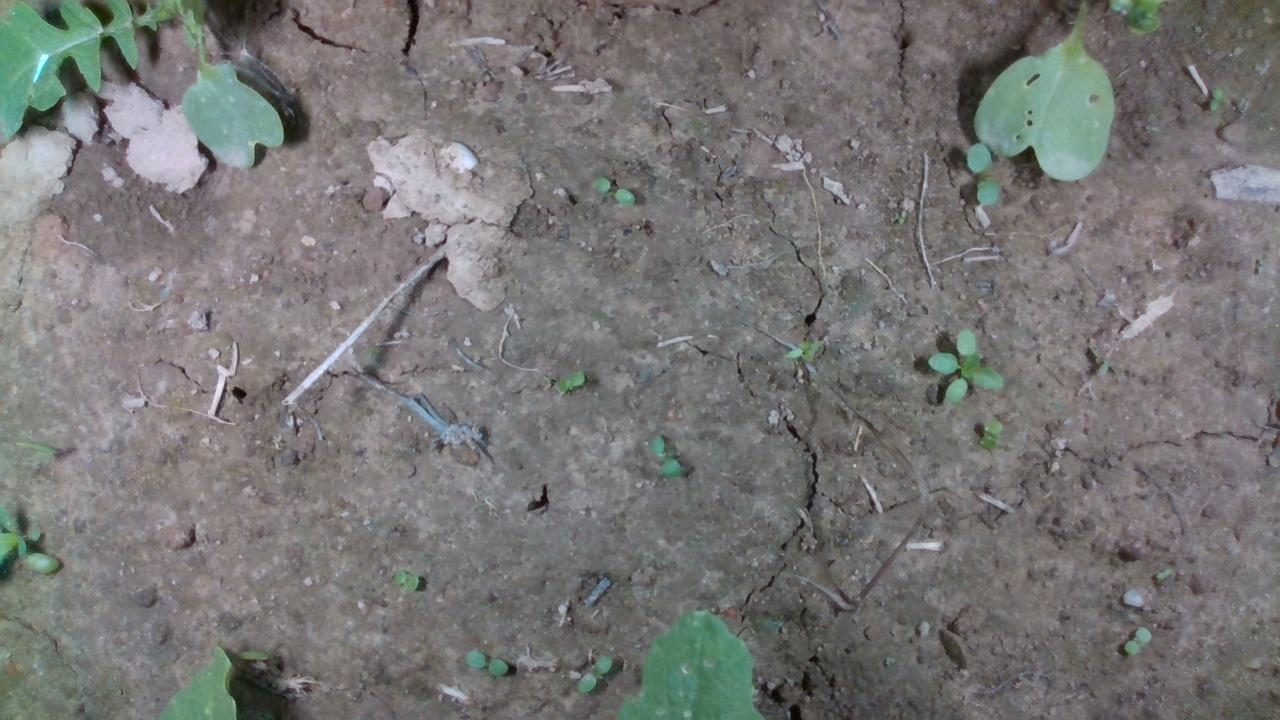weed: (569, 653, 615, 694)
